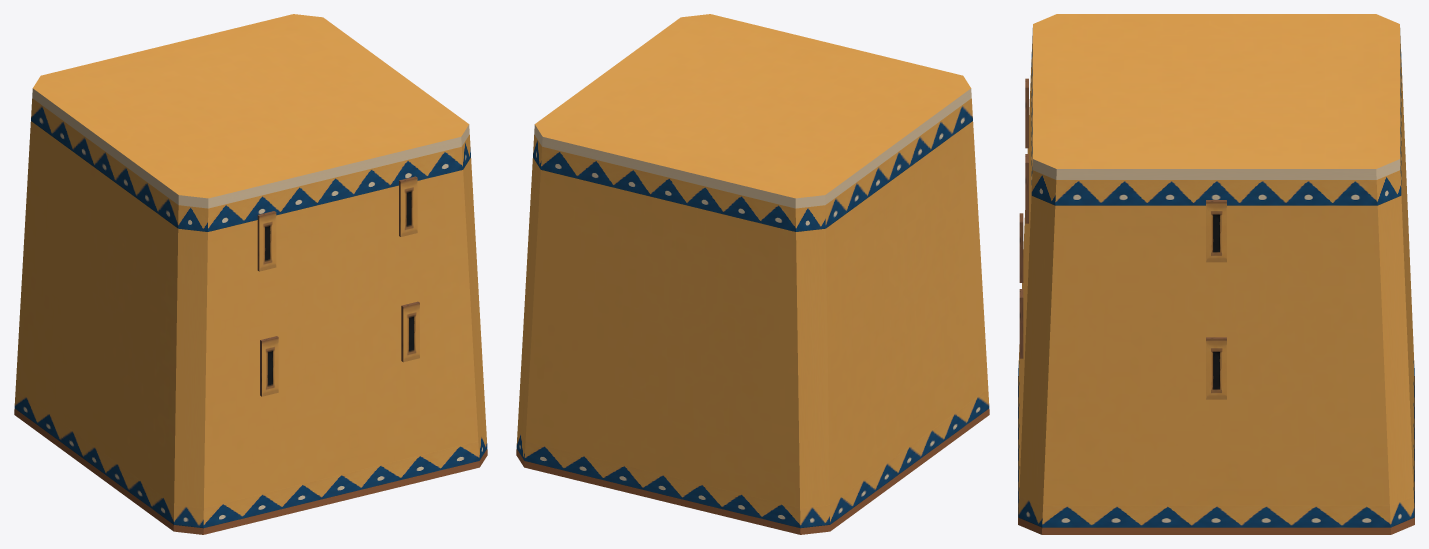
Rendered from rc_wa_tower_base_8x8x8.glb.
The picture shows the model from 3 angles, left to right: view 1: azimuth 30°, elevation 25°; view 2: azimuth 150°, elevation 25°; view 3: azimuth 270°, elevation 25°; orthographic projection. The views are drawn at different scales.
Visible parts, largest first — view 1: SM_RC_WA_TowerBase_8x8x8; view 2: SM_RC_WA_TowerBase_8x8x8; view 3: SM_RC_WA_TowerBase_8x8x8.
Boxes of the visible parts, left/top/right/bottom form: SM_RC_WA_TowerBase_8x8x8: left=14, top=14, right=487, bottom=534; SM_RC_WA_TowerBase_8x8x8: left=516, top=14, right=989, bottom=534; SM_RC_WA_TowerBase_8x8x8: left=1018, top=14, right=1414, bottom=534.
Bounding box in the file's own units: 8 × 8 × 8.
Materials: 1 (1 with a texture image).
